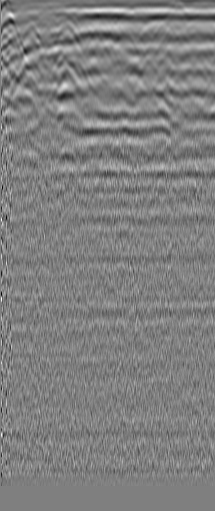오수: (18, 20, 47, 48)
우수: (170, 45, 203, 73)
